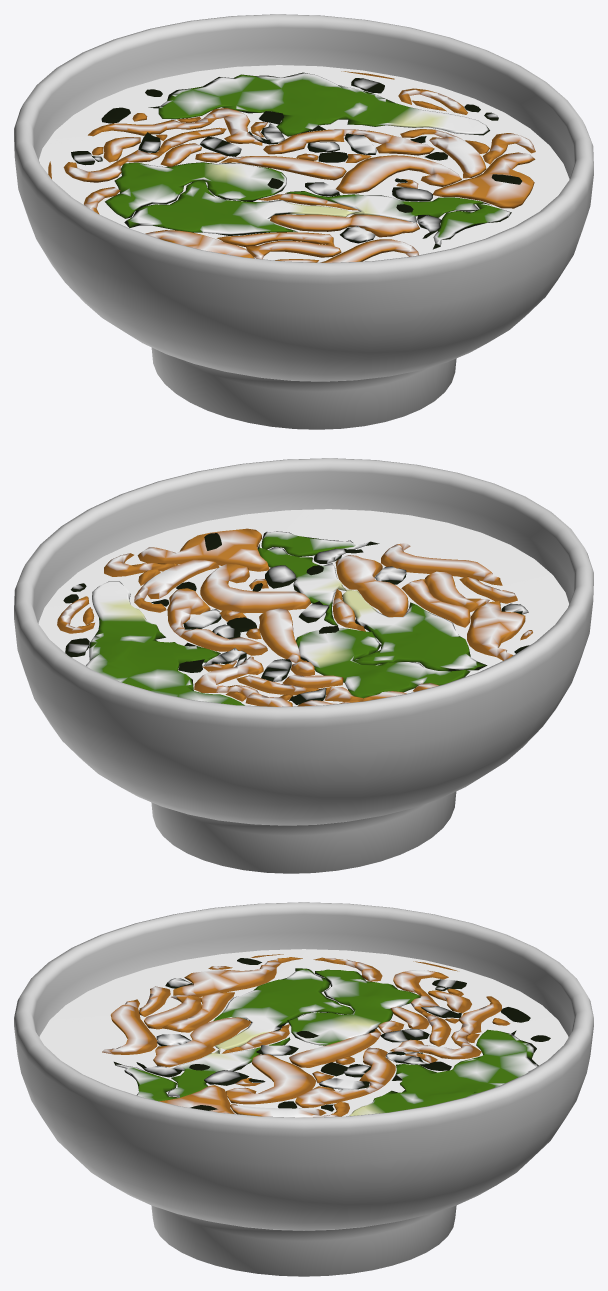
The picture shows the model from 3 angles, top to bottom: view 1: azimuth 30°, elevation 25°; view 2: azimuth 150°, elevation 25°; view 3: azimuth 270°, elevation 25°; orthographic projection. The views are drawn at different scales.
Visible parts, largest first — view 1: SM_D02; view 2: SM_D02; view 3: SM_D02.
Boxes of the visible parts, x1,y1,x2,y2 form: SM_D02: (14,14,593,429); SM_D02: (14,458,593,873); SM_D02: (14,902,593,1276).
Size of the model in its own units: 0.16 by 0.0702 by 0.1759.
